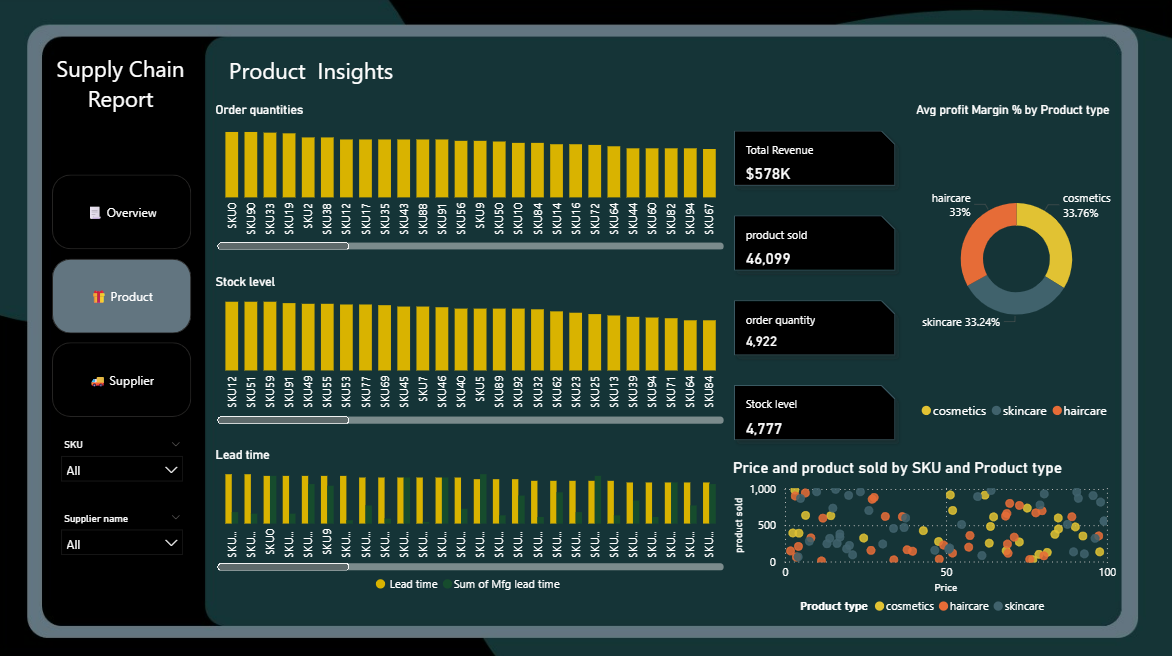

This screenshot's page, from the dashboard's own definition file:
{"tool":"powerbi","page":{"name":"🎁 Product","canvas":[1280,720],"ordinal":1},"visuals":[{"type":"columnChart","title":"Order quantities","fields":{"Y":["_Measures.order quantity"],"Category":["supply_chain_data.SKU"]},"box":[234.9,115,560.8,164.6],"z":0},{"type":"pageNavigator","box":[62.3,194.9,151.8,263.6],"z":0,"group":"g1"},{"type":"columnChart","title":"Stock level","fields":{"Y":["_Measures.Stock level"],"Category":["supply_chain_data.SKU"]},"box":[234.9,302,560.8,166.2],"z":1000},{"type":"slicer","fields":{"Values":["supply_chain_data.SKU"]},"box":[62.3,476.1,151.8,79.9],"z":1000,"group":"g1"},{"type":"clusteredColumnChart","title":"Lead time","fields":{"Category":["supply_chain_data.SKU"],"Y":["Sum(supply_chain_data.Lead time)","Sum(supply_chain_data.Mfg lead time)"]},"box":[234.9,488.9,560.8,166.2],"z":2000},{"type":"slicer","fields":{"Values":["supply_chain_data.Supplier name"]},"box":[62.3,556,151.8,110.2],"z":2000,"group":"g1"},{"type":"textbox","box":[60.7,57.5,151.8,121.4],"z":3000,"group":"g1"},{"type":"cardVisual","fields":{"Data":["_Measures.Total Revenue","_Measures.Sum of product sold","_Measures.order quantity","_Measures.Stock level"]},"box":[784.5,127.8,209.3,373.9],"z":3000},{"type":"donutChart","fields":{"Category":["supply_chain_data.Product type"],"Y":["_Measures.Avg profit Margin %"]},"box":[993.8,115,226.9,353.1],"z":4000},{"type":"scatterChart","fields":{"X":["Sum(supply_chain_data.Price)"],"Y":["_Measures.product sold"],"Category":["supply_chain_data.SKU"],"Series":["supply_chain_data.Product type"]},"box":[795.6,501.7,425,178.9],"z":5000},{"type":"textbox","box":[249.2,59.1,423.4,51.1],"z":6000},{"type":"group","id":"g1","title":"Group 1","box":[60.7,57.5,153.4,608.7],"z":6001}]}

Visuals, with their boxes in screenshot pixels (x1, y1, x2, y2), scaled from the page's 1280x720 canvas onto the 1172x656 screenshot:
"Order quantities" columnChart: 215,105,729,255
pageNavigator: 57,178,196,418
"Stock level" columnChart: 215,275,729,427
slicer - supply_chain_data.SKU: 57,434,196,507
"Lead time" clusteredColumnChart: 215,445,729,597
slicer - supply_chain_data.Supplier name: 57,507,196,607
textbox: 56,52,195,163
cardVisual - _Measures.Total Revenue x _Measures.Sum of product sold: 718,116,910,457
donutChart - supply_chain_data.Product type x _Measures.Avg profit Margin %: 910,105,1118,426
scatterChart - Sum(supply_chain_data.Price) x _Measures.product sold: 728,457,1118,620
textbox: 228,54,616,100
"Group 1" group: 56,52,196,607
